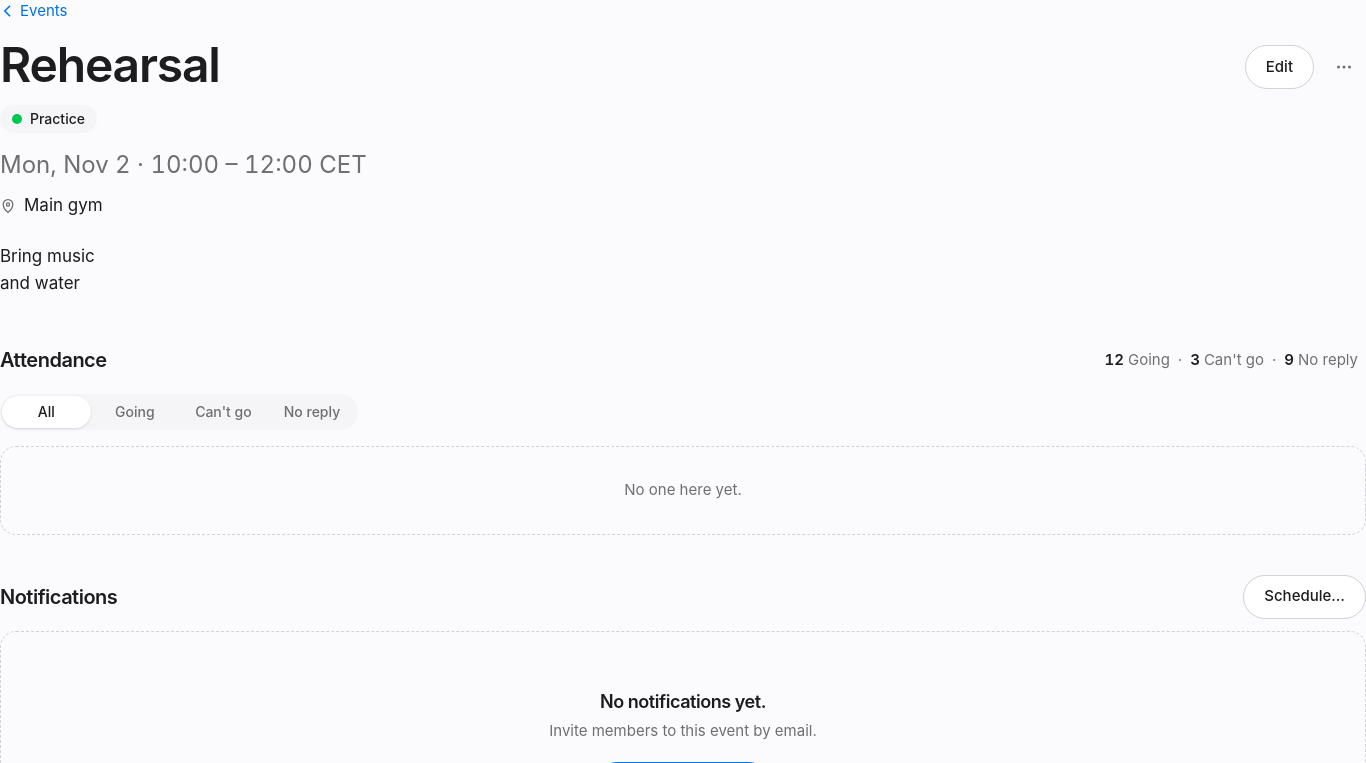
Test: EventDetailView › says no one has been notified when nothing was sent
This screenshot has width=1366, height=763.
Click the button named "More actions": (1344, 67) [1322,45,1365,89]
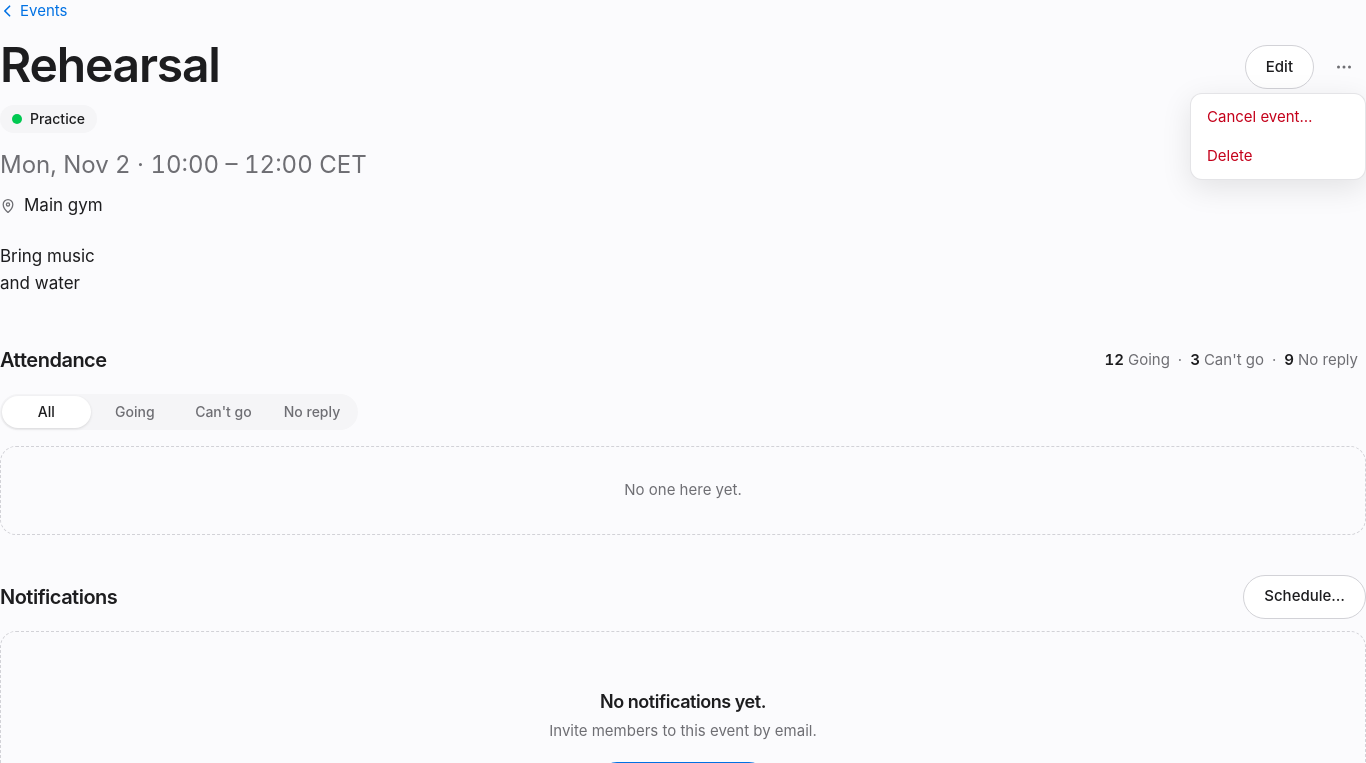
Click the menu item "Cancel event…": (1278, 118) [1195,98,1361,137]
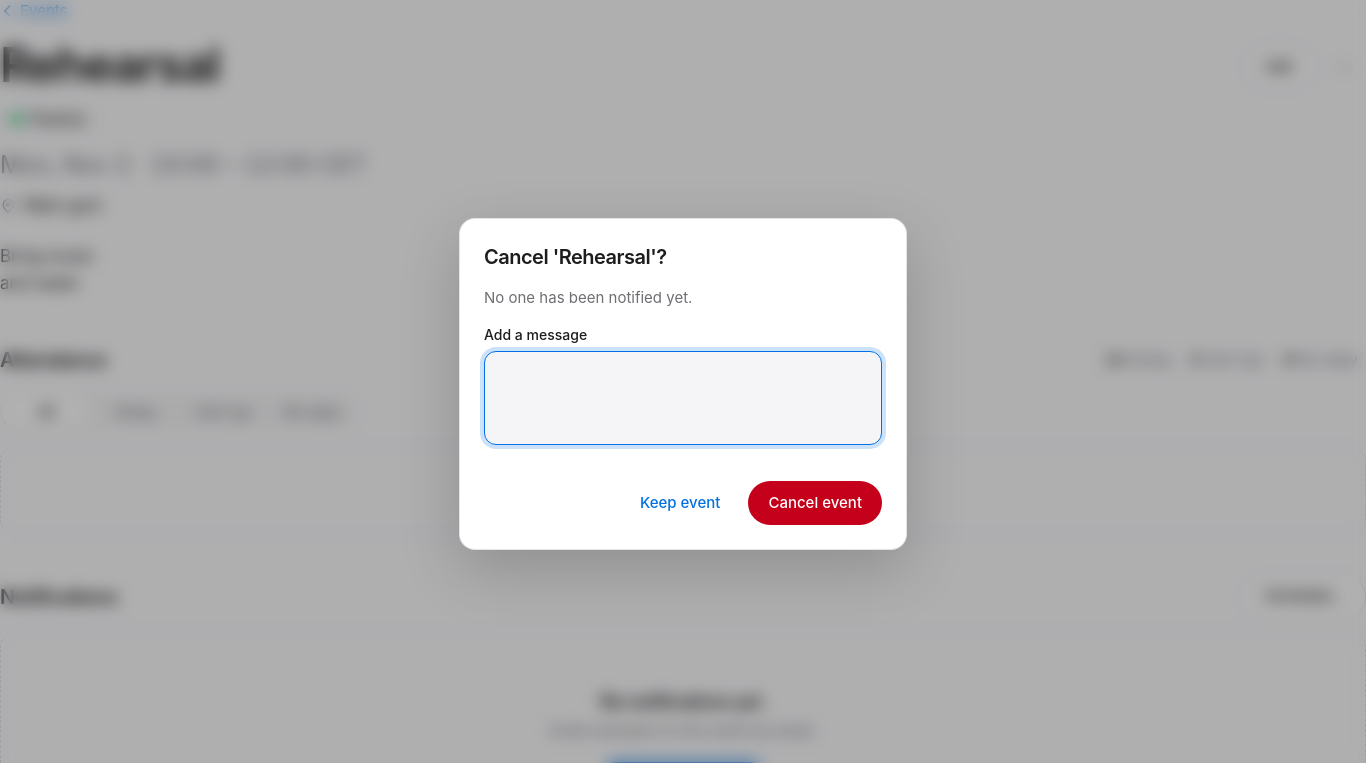
Expected: the dialog shows "No one has been notified yet.", [484,288,692,307]
